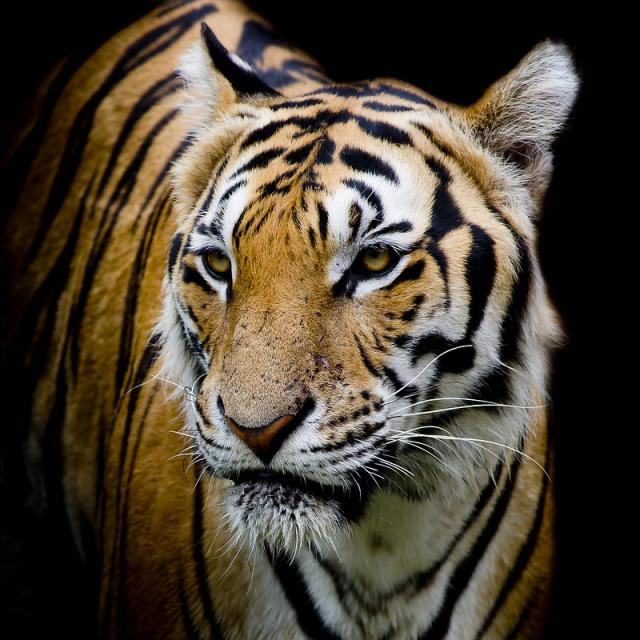Tiger: (21, 12, 601, 633)
